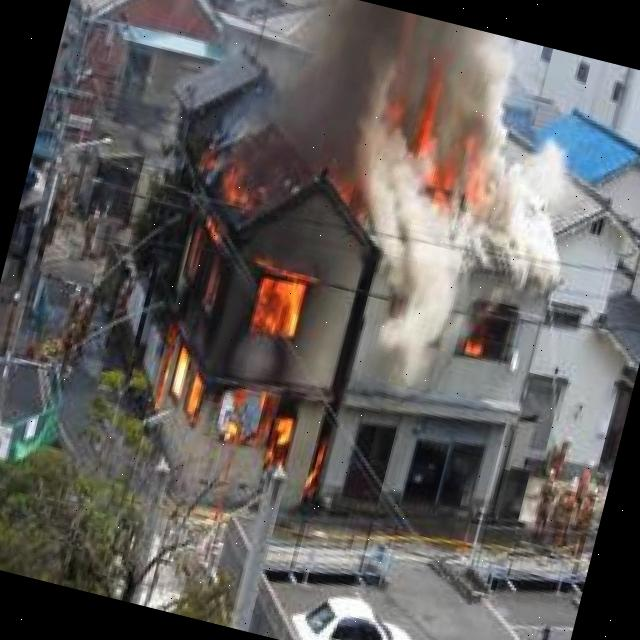fire: (156, 125, 364, 458), (392, 86, 512, 215), (461, 331, 490, 363)
